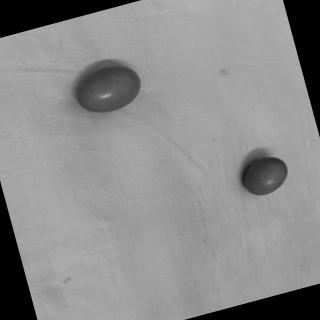Telur: (69, 60, 150, 123), (235, 152, 296, 202)
